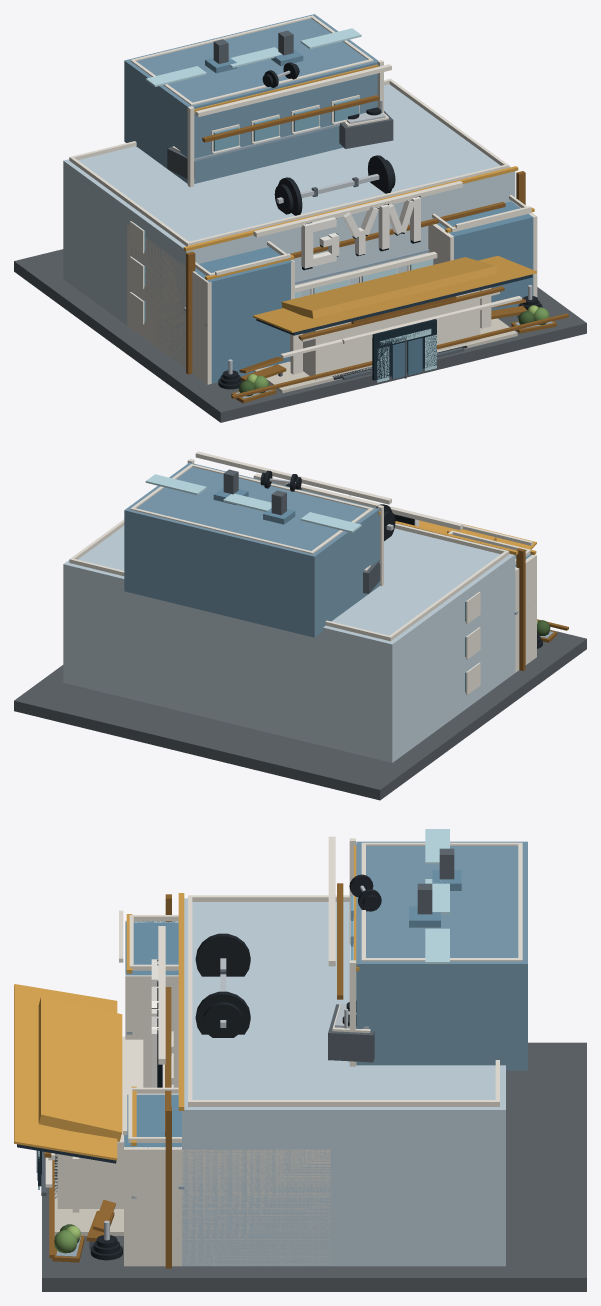
The model's file is gym-building-large.glb.
3 renders of one model, top to bottom at view 1: azimuth 30°, elevation 25°; view 2: azimuth 150°, elevation 25°; view 3: azimuth 270°, elevation 25°, orthographic. The views are drawn at different scales.
Visible parts, largest first — view 1: gym_building_large; view 2: gym_building_large; view 3: gym_building_large.
Part boxes in pixels (bbox=[...]): gym_building_large: bbox=[14, 14, 586, 422]; gym_building_large: bbox=[14, 451, 586, 800]; gym_building_large: bbox=[14, 829, 586, 1291].
Size of the model in its own units: 22.7 by 13.71 by 23.34.
